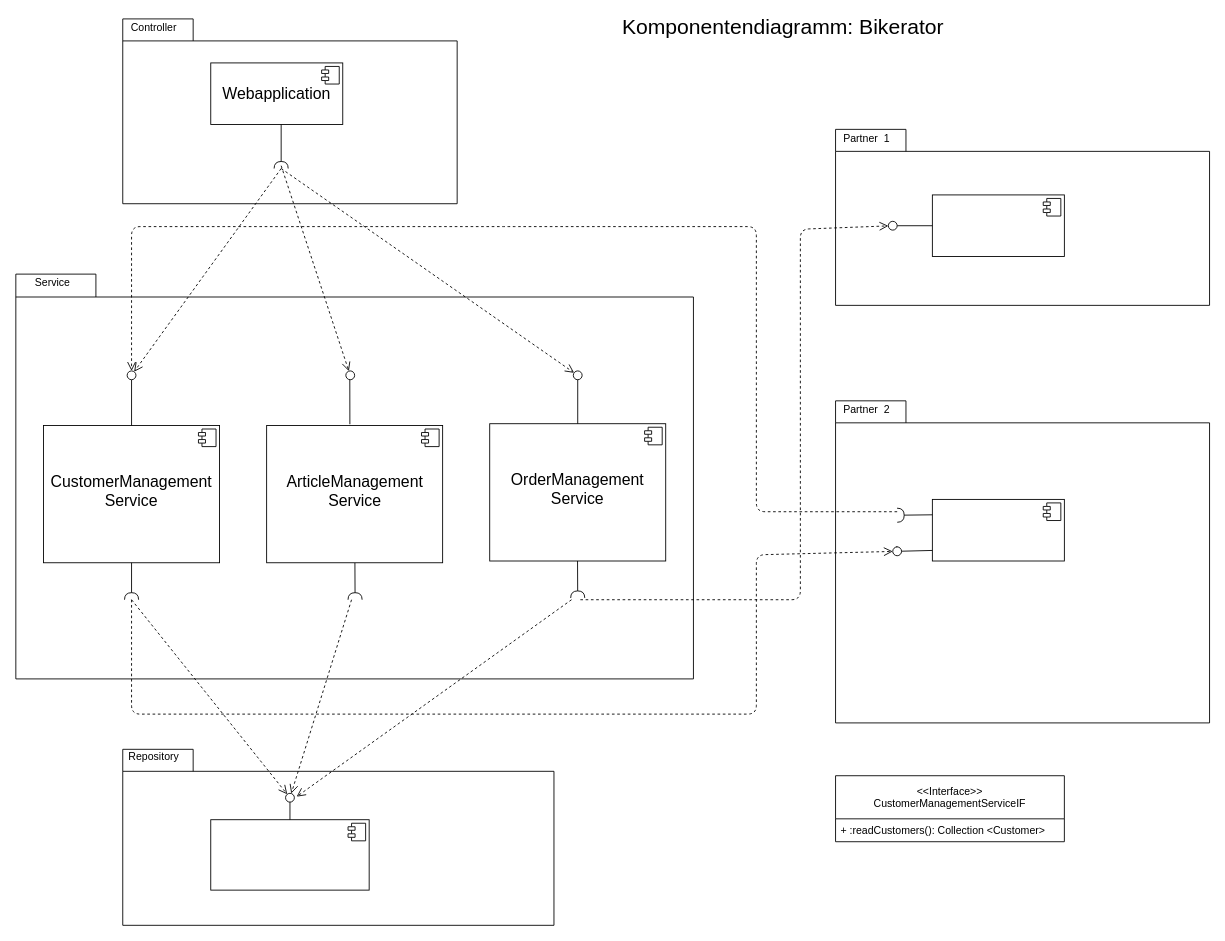
The diagram is 1225 pixels wide and 941 high, and some of its shapes have lost their labels. The centre of each missing label's shape, as x and y in pixels:
Persistenz: the point at 289,854
UserService: the point at 997,530
Zahlungsservice: the point at 997,225
